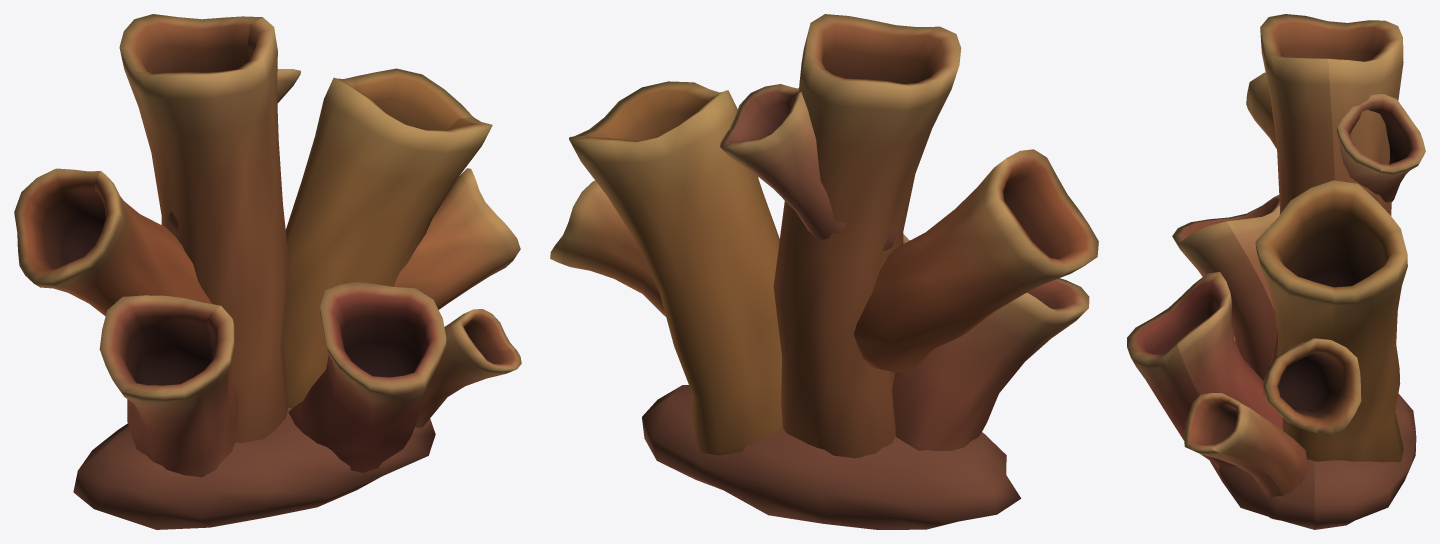
File: sponge.glb
3 views of the same model, side by side, from view 1: azimuth 30°, elevation 25°; view 2: azimuth 150°, elevation 25°; view 3: azimuth 270°, elevation 25° (orthographic). The views are drawn at different scales.
Parts seen in each view (by area): view 1: spongin; view 2: spongin; view 3: spongin.
Boxes of the visible parts, x1=… form: spongin: x1=14, y1=14, x2=521, y2=529; spongin: x1=550, y1=14, x2=1098, y2=529; spongin: x1=1127, y1=14, x2=1425, y2=529.
Bounding box in the file's own units: 1.95 × 1.75 × 1.11.
